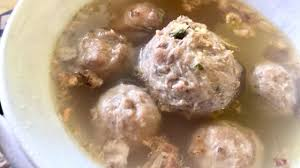bakso: (80, 11, 282, 163)
